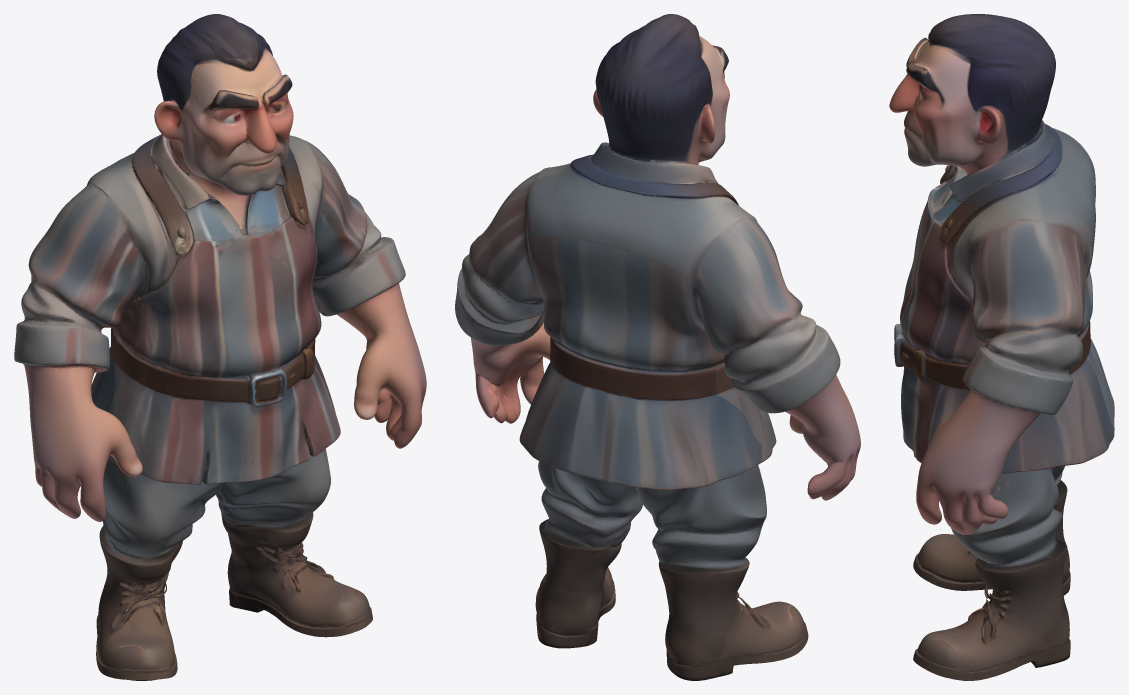
The model's file is base_basic_pbr.fbx.
The picture shows the model from 3 angles, left to right: view 1: azimuth 30°, elevation 25°; view 2: azimuth 150°, elevation 25°; view 3: azimuth 270°, elevation 25°; orthographic projection.
Parts seen in each view (by area): view 1: model; view 2: model; view 3: model.
Part boxes in pixels (box(x1,y1,x2,y2)): model: box(14, 14, 426, 680); model: box(455, 14, 860, 680); model: box(889, 14, 1114, 680).
Bounding box in the file's own units: 123 × 190 × 63.71.
1 material, 1 textured.
